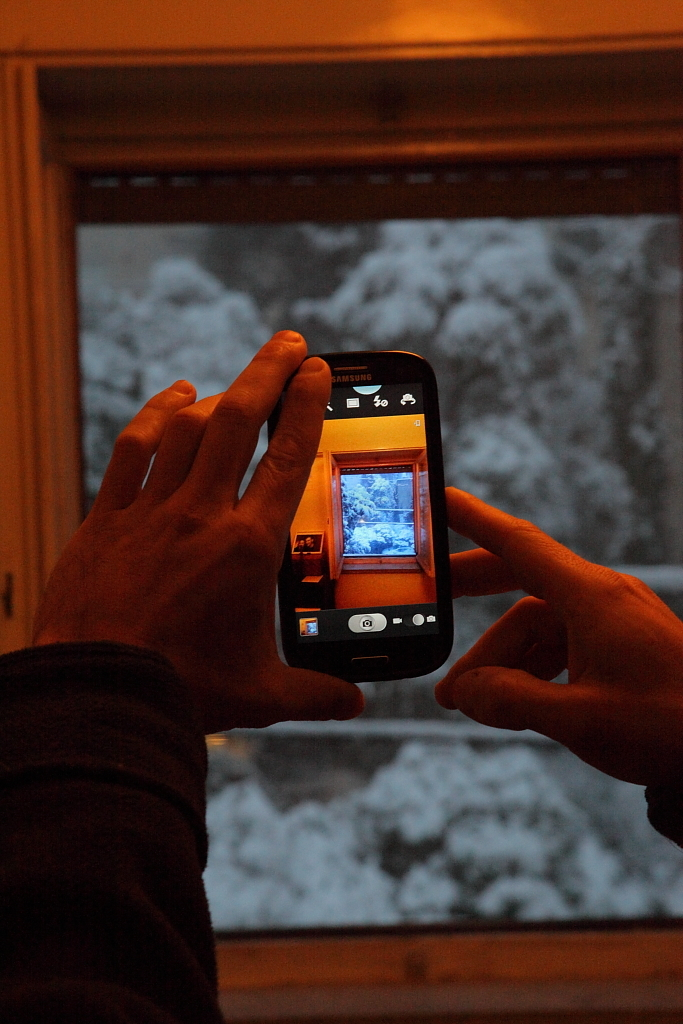Mobile-phone: (270, 339, 454, 681)
